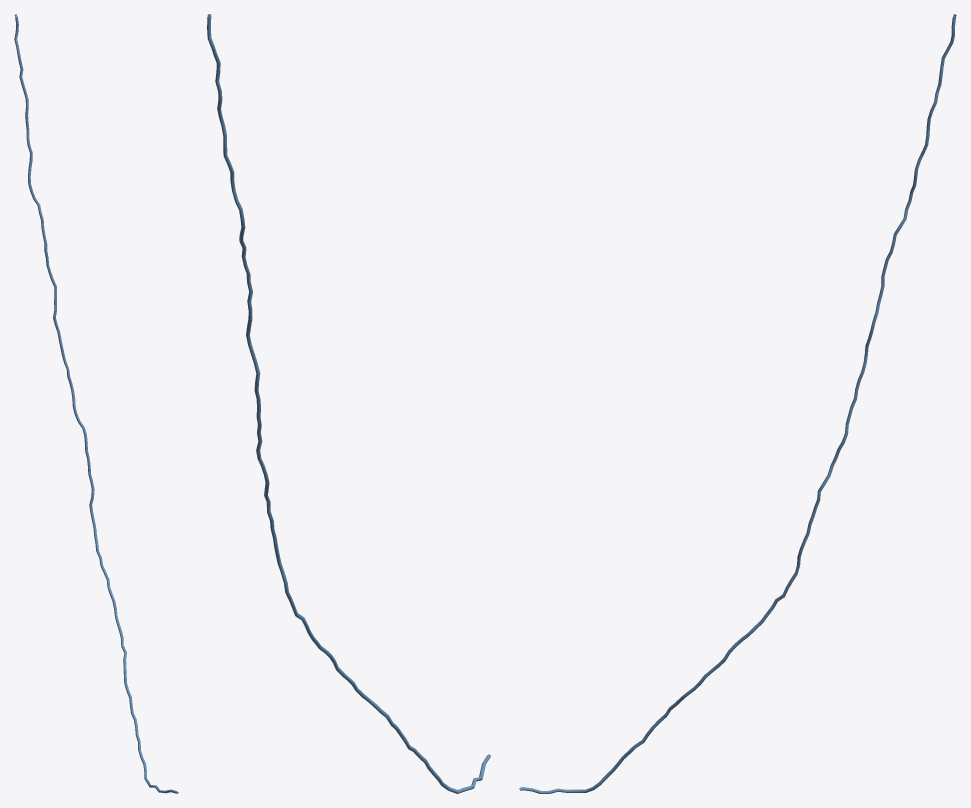
Rendered from sweep341.fbx.
The picture shows the model from 3 angles, left to right: view 1: azimuth 30°, elevation 25°; view 2: azimuth 150°, elevation 25°; view 3: azimuth 270°, elevation 25°; orthographic projection. The views are drawn at different scales.
Visible parts, largest first — view 1: sweep341; view 2: sweep341; view 3: sweep341.
Boxes of the visible parts, left/top/right/bottom form: sweep341: left=14, top=14, right=178, bottom=793; sweep341: left=207, top=14, right=490, bottom=793; sweep341: left=519, top=14, right=956, bottom=793.
Size of the model in its own units: 0.3365 by 5.06 by 2.53.
